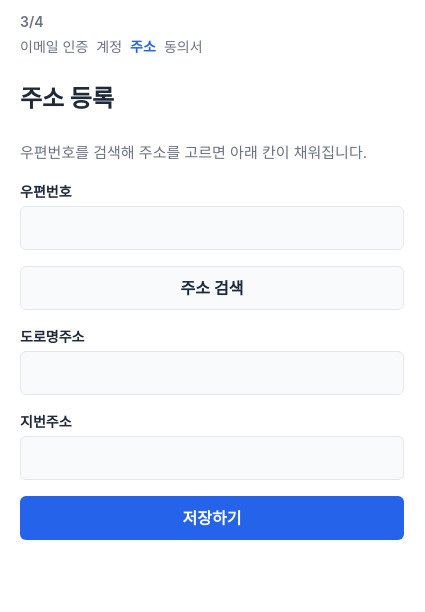
Scenario: SignupAddressPage › should show the server message when the server rejects the save
Click the button "주소 검색" at (212, 288), box [20,266,404,310]
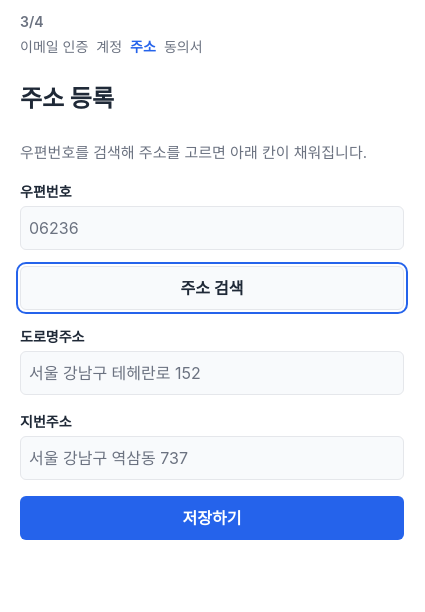
Click the button "저장하기" at (212, 518), box [20,496,404,540]
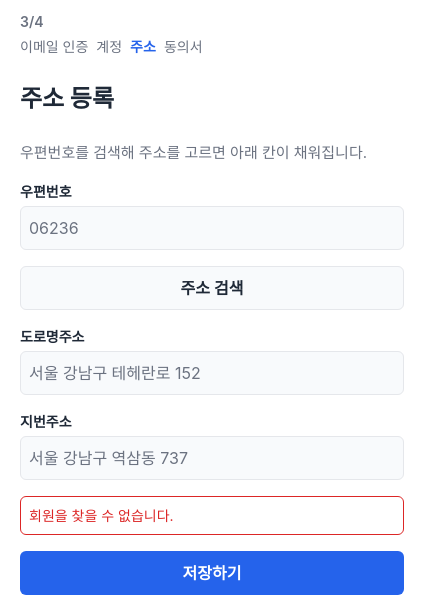
Result: the text "회원을 찾을 수 없습니다." is shown at [20,496,404,535]
